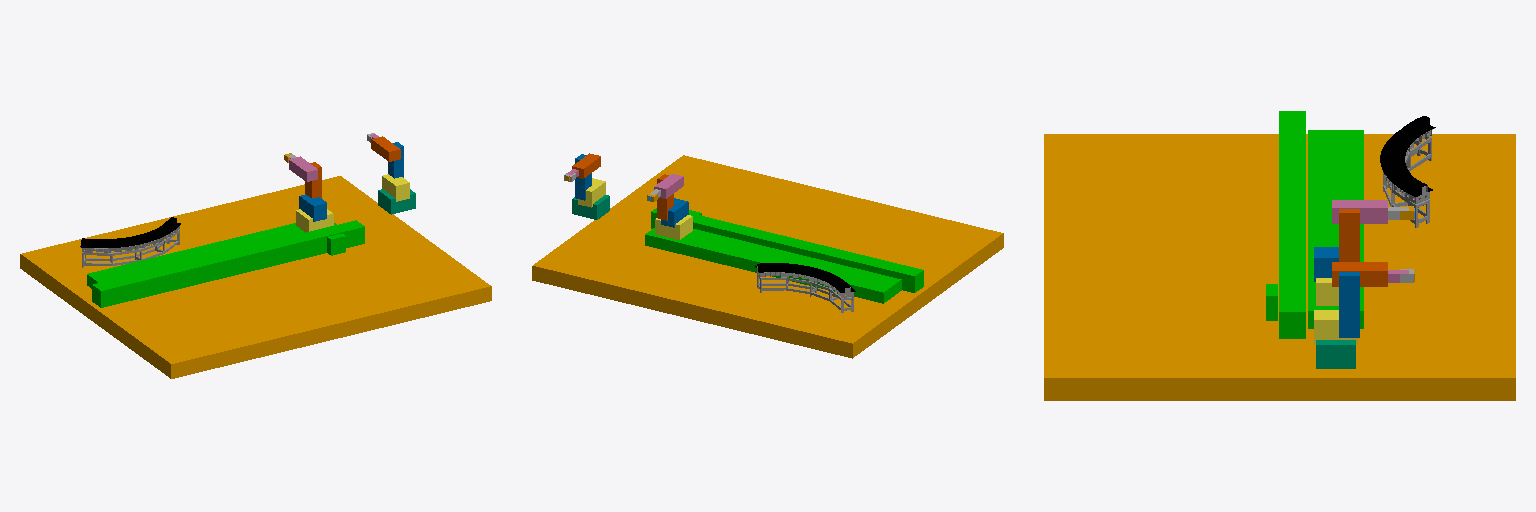
URDF robot description (tez_cell):
<?xml version="1.0"?>
<robot name="tez_cell" version="1.0">

  <link name="base_link">
    <visual>
      <origin rpy="0 0 0" xyz="-3.414199 -1.4075 -0.325"/>
      <geometry>
        <box size="14.546 11.885 0.65"/>
      </geometry>
    </visual>
    <collision>
      <origin rpy="0 0 0" xyz="-3.414199 -1.4075 -0.325"/>
      <geometry>
        <box size="14.546 11.885 0.65"/>
      </geometry>
    </collision>
  </link>

  <!-- Jig -->
  <joint name="jig_pos" type="fixed">
    <origin rpy="0 0 0" xyz="0 0 0"/>
    <parent link="base_link"/>
    <child link="jig"/>
  </joint>

  <link name="jig">
    <visual>
      <origin rpy="0 0 0" xyz="0 0 0"/>
      <geometry>
        <mesh filename="package://tez_description/mesh/reduced_details/jig.dae"/>
      </geometry>
    </visual>
    <collision>
      <origin rpy="0 0 0" xyz="0 0 0"/>
      <geometry>
        <mesh filename="package://tez_description/mesh/reduced_details/jig.dae"/>
      </geometry>
    </collision>
  </link>

  <!-- Linear Axis -->
  <joint name="linear_axis_pos" type="fixed">
    <origin rpy="0 0 0" xyz="0 0 0"/>
    <parent link="base_link"/>
    <child link="linear_axis"/>
  </joint>

  <link name="linear_axis">
    <visual>
      <origin rpy="0 0 0" xyz="0 0 0"/>
      <geometry>
        <mesh filename="package://tez_description/mesh/full_details/linear_axis.dae"/>
      </geometry>
    </visual>
    <collision>
      <origin rpy="0 0 0" xyz="0 0 0"/>
      <geometry>
        <mesh filename="package://tez_description/mesh/full_details/linear_axis.dae"/>
      </geometry>
    </collision>
  </link>

  <!-- KR210_1 -->
  <joint name="kr210_1_linear_axis_joint" type="prismatic">
    <origin rpy="0 0 3.14159" xyz="0 0 0.487"/>
    <parent link="linear_axis"/>
    <child link="KR210_1_socket"/>
    <axis xyz="1.0 0.0 0.0"/>
    <limit effort="100" lower="0" upper="9" velocity="100"/>
  </joint>

  <link name="KR210_1_socket">
    <visual>
      <origin rpy="0 0 0" xyz="-0.059841 0.000000 0.325856"/>
      <geometry>
        <box size="1.139659 1.019947 0.651711"/>
      </geometry>
    </visual>
    <collision>
      <origin rpy="0 0 0" xyz="-0.059841 0.000000 0.325856"/>
      <geometry>
        <box size="1.139659 1.019947 0.651711"/>
      </geometry>
    </collision>
  </link>

  <joint name="kr210_1_joint_1" type="revolute">
    <origin rpy="0 0 0" xyz="0 0 0.5256"/>
    <parent link="KR210_1_socket"/>
    <child link="KR210_1_A1"/>
    <axis xyz="0.0 0.0 1.0"/>
    <limit effort="100" lower="-3.22886" upper="3.22886" velocity="100"/>
  </joint>

  <link name="KR210_1_A1">
    <visual>
      <origin rpy="0 0 0" xyz="-0.014046 -0.009306 0.336047"/>
      <geometry>
        <box size="0.631088 1.113008 0.692095"/>
      </geometry>
    </visual>
    <collision>
      <origin rpy="0 0 0" xyz="-0.014046 -0.009306 0.336047"/>
      <geometry>
        <box size="0.631088 1.113008 0.692095"/>
      </geometry>
    </collision>
  </link>

  <joint name="kr210_1_joint_2" type="revolute">
    <origin rpy="0 0 0" xyz="0.005 -0.35 0.45"/>
    <parent link="KR210_1_A1"/>
    <child link="KR210_1_A2"/>
    <axis xyz="1.0 0.0 0.0"/>
    <limit effort="10000" lower="-2.0944" upper="1.22173" velocity="100"/>
  </joint>

  <link name="KR210_1_A2">
    <visual>
      <origin rpy="0 0 0" xyz="-0.219836 -0.002396 0.656578"/>
      <geometry>
        <box size="0.449671 0.532510 1.714843"/>
      </geometry>
    </visual>
    <collision>
      <origin rpy="0 0 0" xyz="-0.219836 -0.002396 0.656578"/>
      <geometry>
        <box size="0.449671 0.532510 1.714843"/>
      </geometry>
    </collision>
  </link>

  <joint name="kr210_1_joint_3" type="revolute">
    <origin rpy="0 0 0" xyz="-0.183 0 1.35"/>
    <parent link="KR210_1_A2"/>
    <child link="KR210_1_A3"/>
    <axis xyz="1.0 0.0 0.0"/>
    <limit effort="100" lower="-2.0944" upper="2.70526" velocity="100"/>
  </joint>

  <link name="KR210_1_A3">
    <visual>
      <origin rpy="0 0 0" xyz="0.263750 -0.262250 -0.034810"/>
      <geometry>
        <box size="0.527500 1.399500 0.429352"/>
      </geometry>
    </visual>
    <collision>
      <origin rpy="0 0 0" xyz="0.263750 -0.262250 -0.034810"/>
      <geometry>
        <box size="0.527500 1.399500 0.429352"/>
      </geometry>
    </collision>
  </link>

  <joint name="kr210_1_joint_4" type="revolute">
    <origin rpy="0 0 0" xyz="0.178 -0.962 -0.041"/>
    <parent link="KR210_1_A3"/>
    <child link="KR210_1_A4"/>
    <axis xyz="0.0 1.0 0.0"/>
    <limit effort="100" lower="-6.10865" upper="6.10865" velocity="100"/>
  </joint>

  <link name="KR210_1_A4">
    <visual>
      <origin rpy="0 0 0" xyz="0.000000 -0.258565 -0.000750"/>
      <geometry>
        <box size="0.246000 0.537131 0.247500"/>
      </geometry>
    </visual>
    <collision>
      <origin rpy="0 0 0" xyz="0.000000 -0.258565 -0.000750"/>
      <geometry>
        <box size="0.246000 0.537131 0.247500"/>
      </geometry>
    </collision>
  </link>

  <joint name="kr210_1_joint_5" type="revolute">
    <origin rpy="0 0 0" xyz="0 -0.438 0"/>
    <parent link="KR210_1_A4"/>
    <child link="KR210_1_A5"/>
    <axis xyz="1.0 0.0 0.0"/>
    <limit effort="100" lower="-2.18166" upper="2.18166" velocity="100"/>
  </joint>

  <link name="KR210_1_A5">
    <visual>
      <origin rpy="0 0 0" xyz="0.023766 -0.050459 0.000000"/>
      <geometry>
        <box size="0.324961 0.341083 0.240222"/>
      </geometry>
    </visual>
    <collision>
      <origin rpy="0 0 0" xyz="0.023766 -0.050459 0.000000"/>
      <geometry>
        <box size="0.324961 0.341083 0.240222"/>
      </geometry>
    </collision>
  </link>

  <joint name="kr210_1_joint_6" type="revolute">
    <origin rpy="0 0 0" xyz="0 -0.24 0"/>
    <parent link="KR210_1_A5"/>
    <child link="KR210_1_A6"/>
    <axis xyz="0.0 1.0 0.0"/>
    <limit effort="100" lower="-6.10865" upper="6.10865" velocity="2"/>
  </joint>

  <link name="KR210_1_A6">
    <visual>
      <origin rpy="0 0 0" xyz="0.000000 0.017500 0.000000"/>
      <geometry>
        <box size="0.2 0.035 0.2"/>
      </geometry>
    </visual>
    <collision>
      <origin rpy="0 0 0" xyz="0.000000 0.017500 0.000000"/>
      <geometry>
        <box size="0.2 0.035 0.2"/>
      </geometry>
    </collision>
  </link>

  <!-- <link name="EndEffector_Link" />

  <joint name="EndEffector" type="fixed">
    <origin xyz="0 0 -0.061525" rpy="0 0 0" />
    <parent link="KR210_1_A6" />
    <child link="EndEffector_Link" />
    <axis xyz="0 0 0" />
  </joint> -->


  <!-- KR210_2 -->
  <joint name="kr210_2_linear_axis_joint" type="prismatic">
    <origin rpy="0 0 3.14159" xyz="-1.5 0 0.487"/>
    <parent link="linear_axis"/>
    <child link="KR210_2_socket"/>
    <axis xyz="1.0 0.0 0.0"/>
    <limit effort="100" lower="-1.5" upper="-9" velocity="100"/>
  </joint>

  <link name="KR210_2_socket">
    <visual>
      <origin rpy="0 0 0" xyz="-0.059841 0.000000 0.325856"/>
      <geometry>
        <box size="1.139659 1.019947 0.651711"/>
      </geometry>
    </visual>
    <collision>
      <origin rpy="0 0 0" xyz="-0.059841 0.000000 0.325856"/>
      <geometry>
        <box size="1.139659 1.019947 0.651711"/>
      </geometry>
    </collision>
  </link>

  <joint name="kr210_2_joint_1" type="revolute">
    <origin rpy="0 0 0" xyz="0 0 0.5256"/>
    <parent link="KR210_2_socket"/>
    <child link="KR210_2_A1"/>
    <axis xyz="0.0 0.0 1.0"/>
    <limit effort="100" lower="-3.22886" upper="3.22886" velocity="100"/>
  </joint>

  <link name="KR210_2_A1">
    <visual>
      <origin rpy="0 0 0" xyz="-0.014046 -0.009306 0.336047"/>
      <geometry>
        <box size="0.631088 1.113008 0.692095"/>
      </geometry>
    </visual>
    <collision>
      <origin rpy="0 0 0" xyz="-0.014046 -0.009306 0.336047"/>
      <geometry>
        <box size="0.631088 1.113008 0.692095"/>
      </geometry>
    </collision>
  </link>

  <joint name="kr210_2_joint_2" type="revolute">
    <origin rpy="0 0 0" xyz="0.005 -0.35 0.45"/>
    <parent link="KR210_2_A1"/>
    <child link="KR210_2_A2"/>
    <axis xyz="1.0 0.0 0.0"/>
    <limit effort="10000" lower="-2.0944" upper="1.22173" velocity="100"/>
  </joint>

  <link name="KR210_2_A2">
    <visual>
      <origin rpy="0 0 0" xyz="-0.219836 -0.002396 0.656578"/>
      <geometry>
        <box size="0.449671 0.532510 1.714843"/>
      </geometry>
    </visual>
    <collision>
      <origin rpy="0 0 0" xyz="-0.219836 -0.002396 0.656578"/>
      <geometry>
        <box size="0.449671 0.532510 1.714843"/>
      </geometry>
    </collision>
  </link>

  <joint name="kr210_2_joint_3" type="revolute">
    <origin rpy="0 0 0" xyz="-0.183 0 1.35"/>
    <parent link="KR210_2_A2"/>
    <child link="KR210_2_A3"/>
    <axis xyz="1.0 0.0 0.0"/>
    <limit effort="100" lower="-2.0944" upper="2.70526" velocity="100"/>
  </joint>

  <link name="KR210_2_A3">
    <visual>
      <origin rpy="0 0 0" xyz="0.263750 -0.262250 -0.034810"/>
      <geometry>
        <box size="0.527500 1.399500 0.429352"/>
      </geometry>
    </visual>
    <collision>
      <origin rpy="0 0 0" xyz="0.263750 -0.262250 -0.034810"/>
      <geometry>
        <box size="0.527500 1.399500 0.429352"/>
      </geometry>
    </collision>
  </link>

  <joint name="kr210_2_joint_4" type="revolute">
    <origin rpy="0 0 0" xyz="0.178 -0.962 -0.041"/>
    <parent link="KR210_2_A3"/>
    <child link="KR210_2_A4"/>
    <axis xyz="0.0 1.0 0.0"/>
    <limit effort="100" lower="-6.10865" upper="6.10865" velocity="100"/>
  </joint>

  <link name="KR210_2_A4">
    <visual>
      <origin rpy="0 0 0" xyz="0.000000 -0.258565 -0.000750"/>
      <geometry>
        <box size="0.246000 0.537131 0.247500"/>
      </geometry>
    </visual>
    <collision>
      <origin rpy="0 0 0" xyz="0.000000 -0.258565 -0.000750"/>
      <geometry>
        <box size="0.246000 0.537131 0.247500"/>
      </geometry>
    </collision>
  </link>

  <joint name="kr210_2_joint_5" type="revolute">
    <origin rpy="0 0 0" xyz="0 -0.438 0"/>
    <parent link="KR210_2_A4"/>
    <child link="KR210_2_A5"/>
    <axis xyz="1.0 0.0 0.0"/>
    <limit effort="100" lower="-2.18166" upper="2.18166" velocity="100"/>
  </joint>

  <link name="KR210_2_A5">
    <visual>
      <origin rpy="0 0 0" xyz="0.023766 -0.050459 0.000000"/>
      <geometry>
        <box size="0.324961 0.341083 0.240222"/>
      </geometry>
    </visual>
    <collision>
      <origin rpy="0 0 0" xyz="0.023766 -0.050459 0.000000"/>
      <geometry>
        <box size="0.324961 0.341083 0.240222"/>
      </geometry>
    </collision>
  </link>

  <joint name="kr210_2_joint_6" type="revolute">
    <origin rpy="0 0 0" xyz="0 -0.24 0"/>
    <parent link="KR210_2_A5"/>
    <child link="KR210_2_A6"/>
    <axis xyz="0.0 1.0 0.0"/>
    <limit effort="100" lower="-6.10865" upper="6.10865" velocity="2"/>
  </joint>

  <link name="KR210_2_A6">
    <visual>
      <origin rpy="0 0 0" xyz="0.000000 0.017500 0.000000"/>
      <geometry>
        <box size="0.2 0.035 0.2"/>
      </geometry>
    </visual>
    <collision>
      <origin rpy="0 0 0" xyz="0.000000 0.017500 0.000000"/>
      <geometry>
        <box size="0.2 0.035 0.2"/>
      </geometry>
    </collision>
  </link>

  <!-- <link name="EndEffector_Link" />

  <joint name="EndEffector" type="fixed">
    <origin xyz="0 0 -0.061525" rpy="0 0 0" />
    <parent link="KR210_2_A6" />
    <child link="EndEffector_Link" />
    <axis xyz="0 0 0" />
  </joint> -->

</robot>

--- What the picture shows (computed from the rendered views, not written in the file) ---
Views: 3 orthographic renders of the robot side by side, from view 1: azimuth 30°, elevation 25°; view 2: azimuth 150°, elevation 25°; view 3: azimuth 270°, elevation 25°.
Model tez_cell with 17 links and 16 joints (12 revolute, 2 prismatic, 2 fixed), rooted at base_link, posed all joints at 0 but 1 set to mid-range because 0 is outside their limits (kr210_2_linear_axis_joint = -5.25).
Visible links, largest first — view 1: base_link, linear_axis, jig, KR210_2_socket, KR210_1_A1, KR210_2_A1; view 2: base_link, linear_axis, jig, KR210_1_socket, KR210_2_socket; view 3: base_link, linear_axis, jig, KR210_2_A2, KR210_2_socket, KR210_1_A2, KR210_2_A3, KR210_1_A3, KR210_2_A1, KR210_1_A1, KR210_1_socket.
Boxes of the visible links, x1,y1,x2,y2 form: base_link: (20, 176, 491, 378); linear_axis: (87, 220, 364, 307); jig: (80, 217, 181, 267); KR210_2_socket: (378, 189, 415, 214); KR210_1_A1: (299, 194, 326, 221); KR210_2_A1: (382, 174, 409, 201); base_link: (532, 155, 1003, 358); linear_axis: (645, 208, 923, 303); jig: (755, 263, 855, 312); KR210_1_socket: (655, 215, 692, 239); KR210_2_socket: (572, 195, 609, 219); base_link: (1044, 134, 1515, 400); linear_axis: (1266, 111, 1363, 338); jig: (1380, 116, 1435, 227); KR210_2_A2: (1339, 272, 1359, 337); KR210_2_socket: (1316, 340, 1355, 368); KR210_1_A2: (1339, 209, 1359, 261); KR210_2_A3: (1332, 262, 1387, 286); KR210_1_A3: (1332, 200, 1387, 223); KR210_2_A1: (1314, 310, 1357, 344); KR210_1_A1: (1314, 247, 1338, 281); KR210_1_socket: (1316, 278, 1338, 305).
Size in the robot's own frame: 15.07 by 11.88 by 3.64 metres.
Meshes: 2 distinct files referenced, 2 mesh visuals loaded (2 Collada DAE).